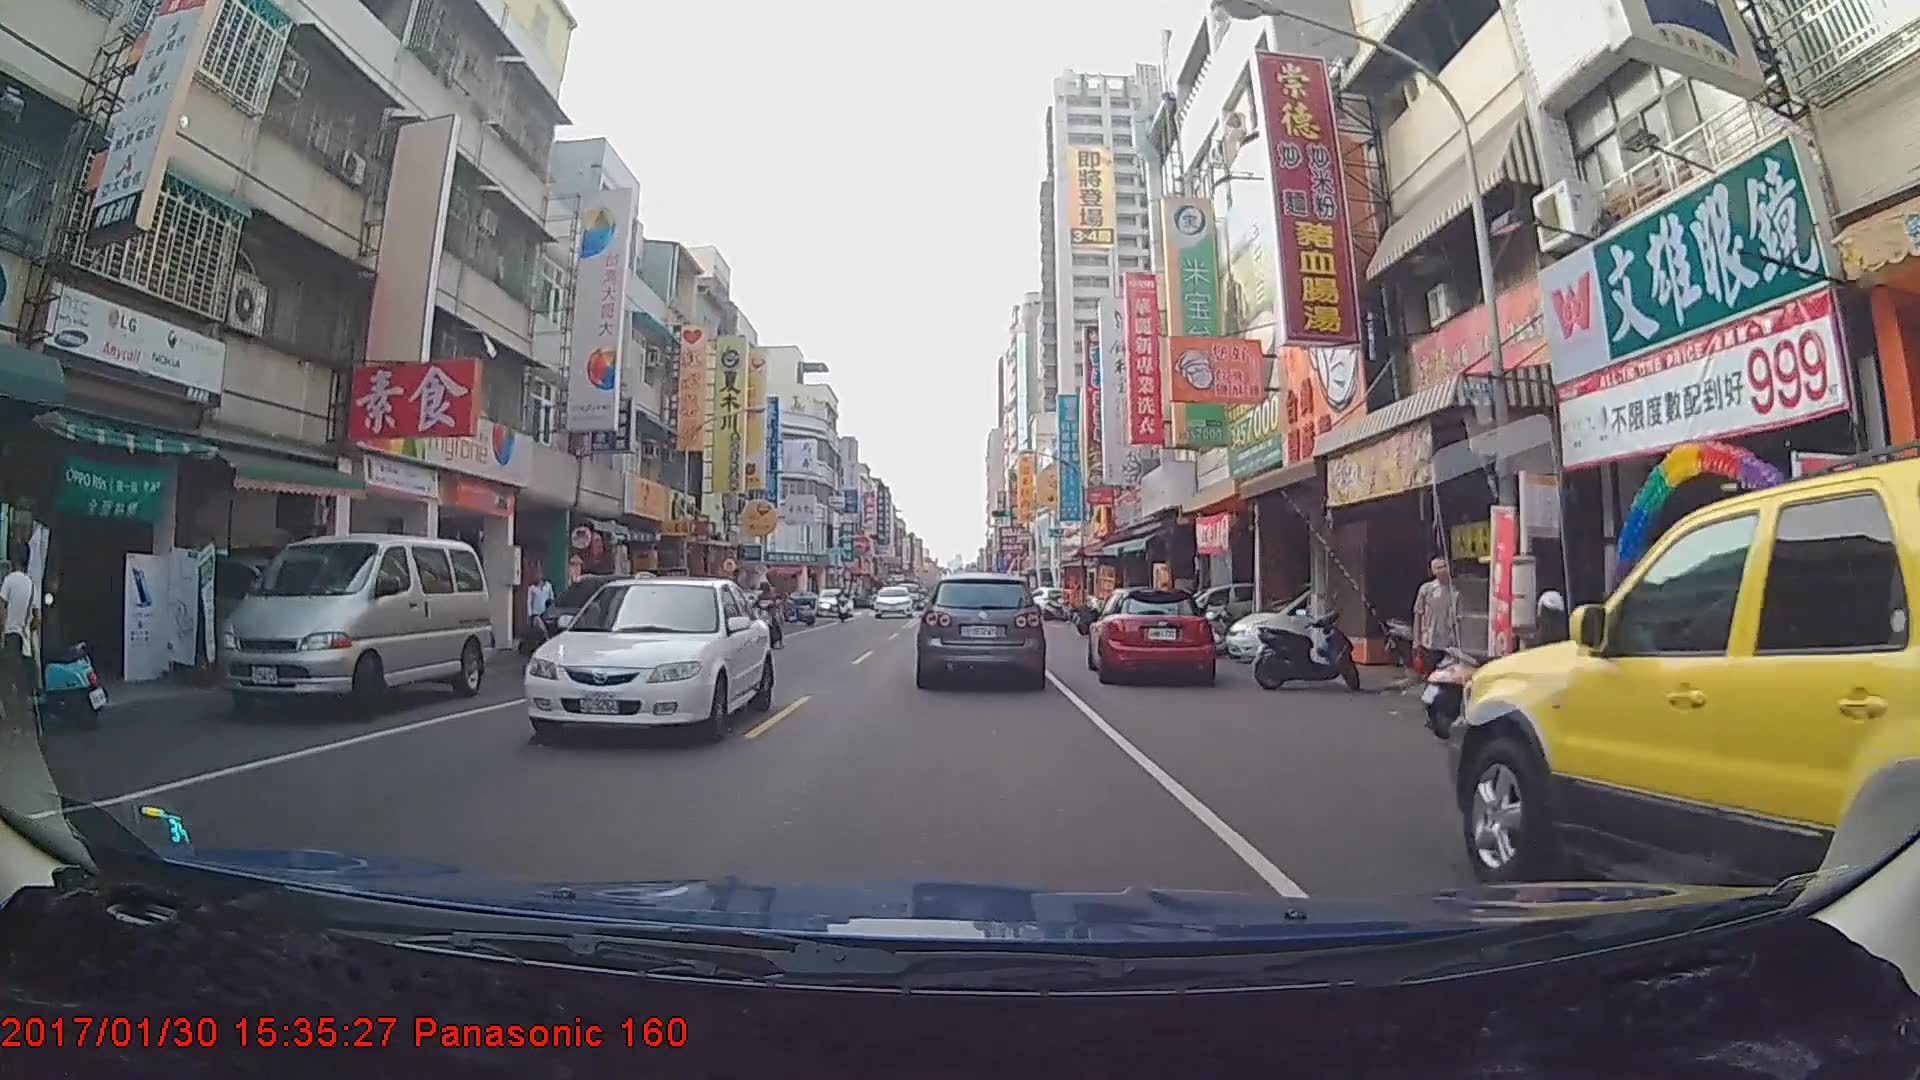pedestrian: (1413, 554, 1468, 724), (1, 543, 43, 745), (524, 568, 559, 646)
vehicle: (1446, 449, 1920, 969), (210, 530, 494, 721), (521, 569, 773, 745), (918, 570, 1044, 685), (528, 572, 670, 671), (1085, 583, 1215, 684), (870, 584, 912, 617), (814, 587, 853, 617)
